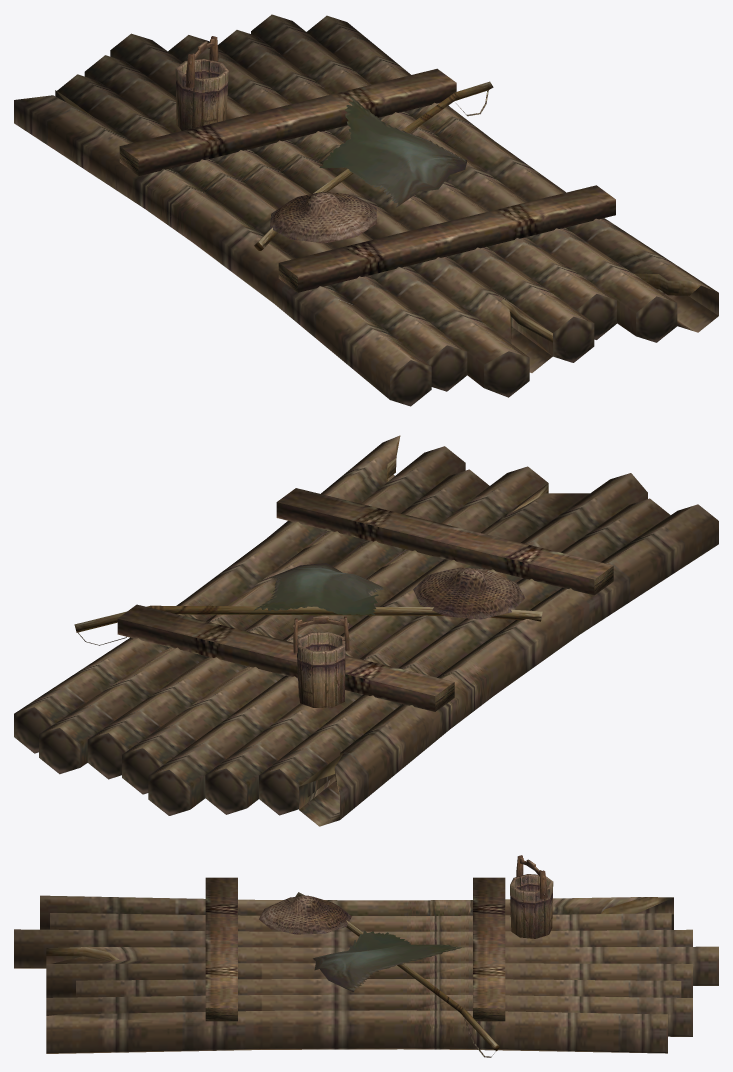
The model's file is C5_Boat_2.FBX.
3 views of the same model, one above another, from view 1: azimuth 30°, elevation 25°; view 2: azimuth 150°, elevation 25°; view 3: azimuth 270°, elevation 25° (orthographic). The views are drawn at different scales.
Visible parts, largest first — view 1: C5_Boat_2; view 2: C5_Boat_2; view 3: C5_Boat_2.
Part boxes in pixels (bbox=[...]): C5_Boat_2: bbox=[14, 14, 718, 406]; C5_Boat_2: bbox=[14, 435, 718, 826]; C5_Boat_2: bbox=[14, 855, 718, 1057].
Bounding box in the file's own units: 602 × 197 × 1171.
